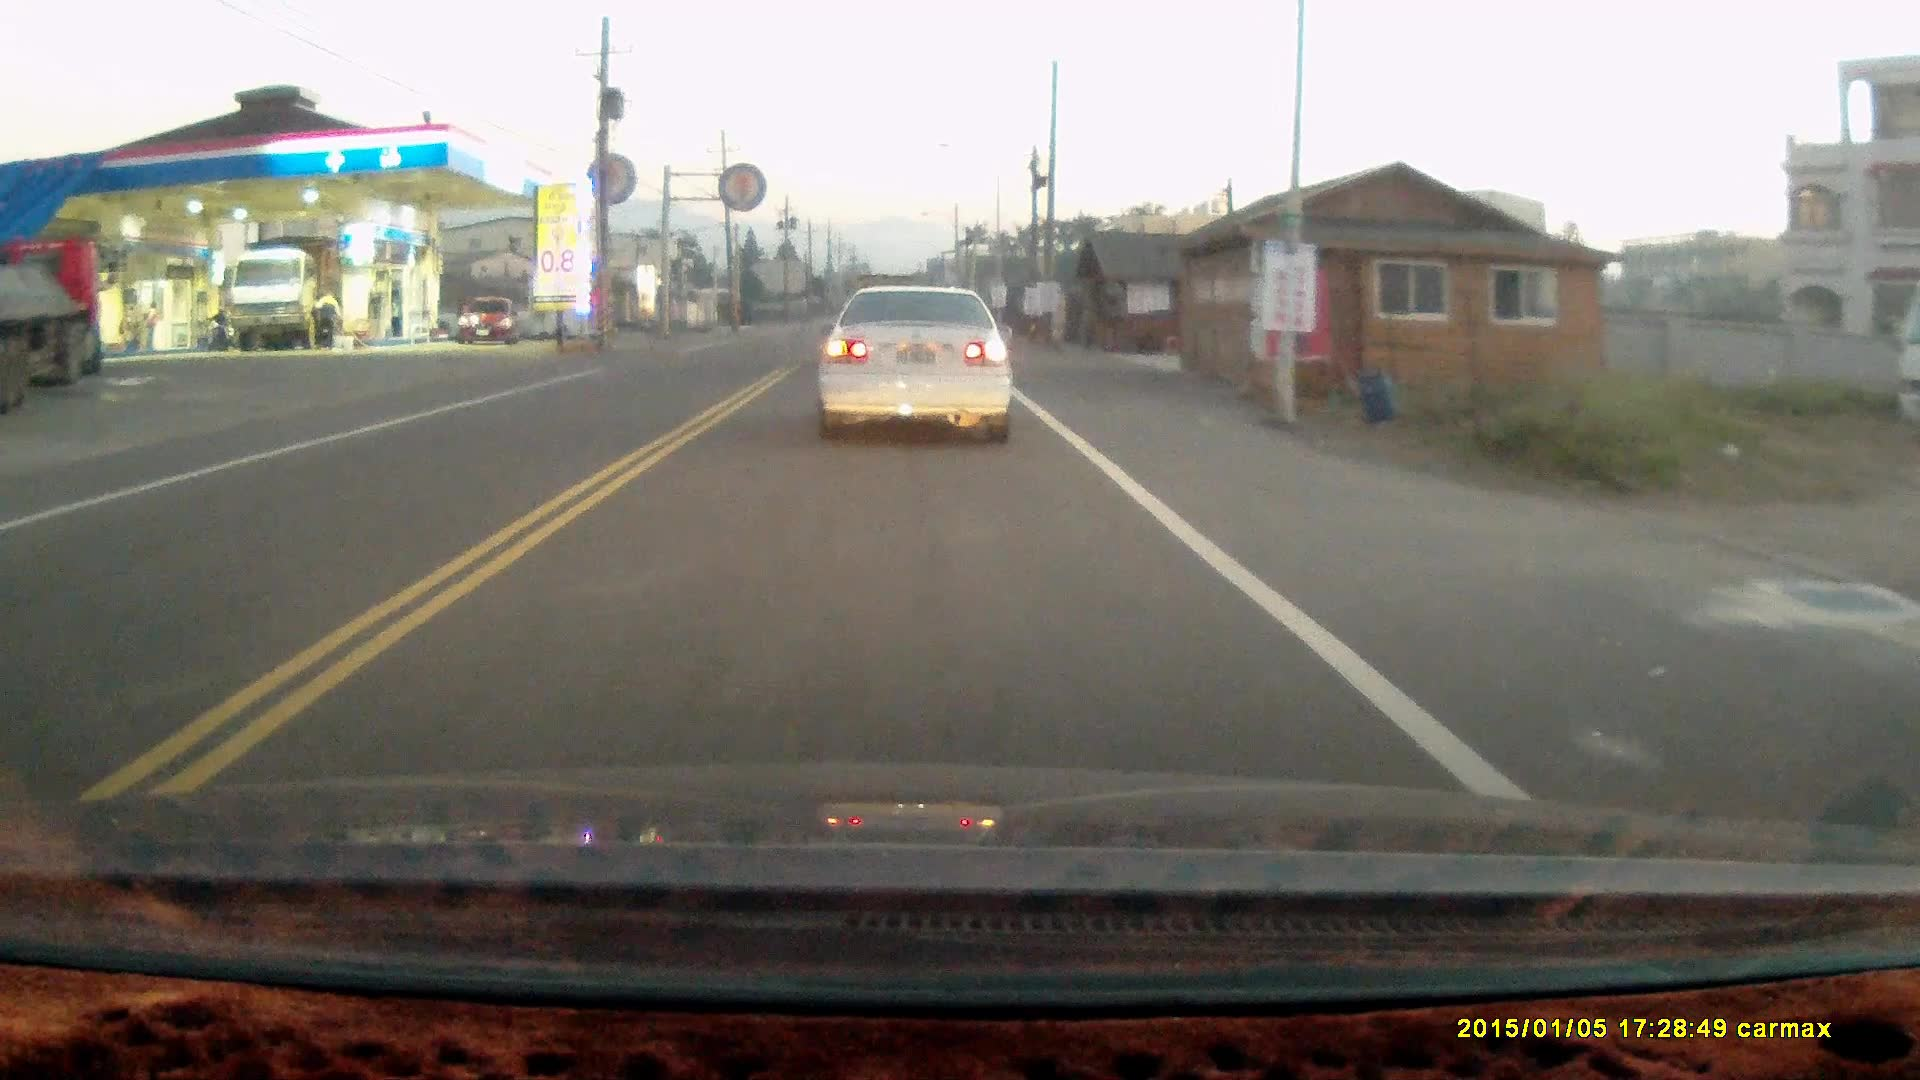pedestrian: (308, 287, 342, 346)
vehicle: (813, 279, 1017, 443), (0, 233, 111, 407), (228, 243, 341, 351), (459, 296, 526, 349)
